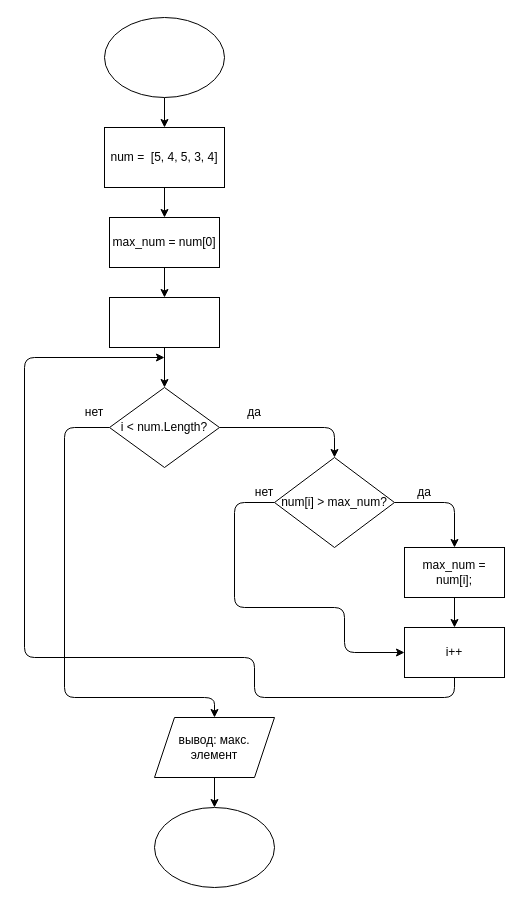
Image size: 522x905. Some labels were removed from this diagram. The shapes that lost their labels are listed below. From the top down, each one's centre as x and y in pixels, then its label:
the point at 164,57: начало
the point at 164,322: i = 1
the point at 214,847: конец
